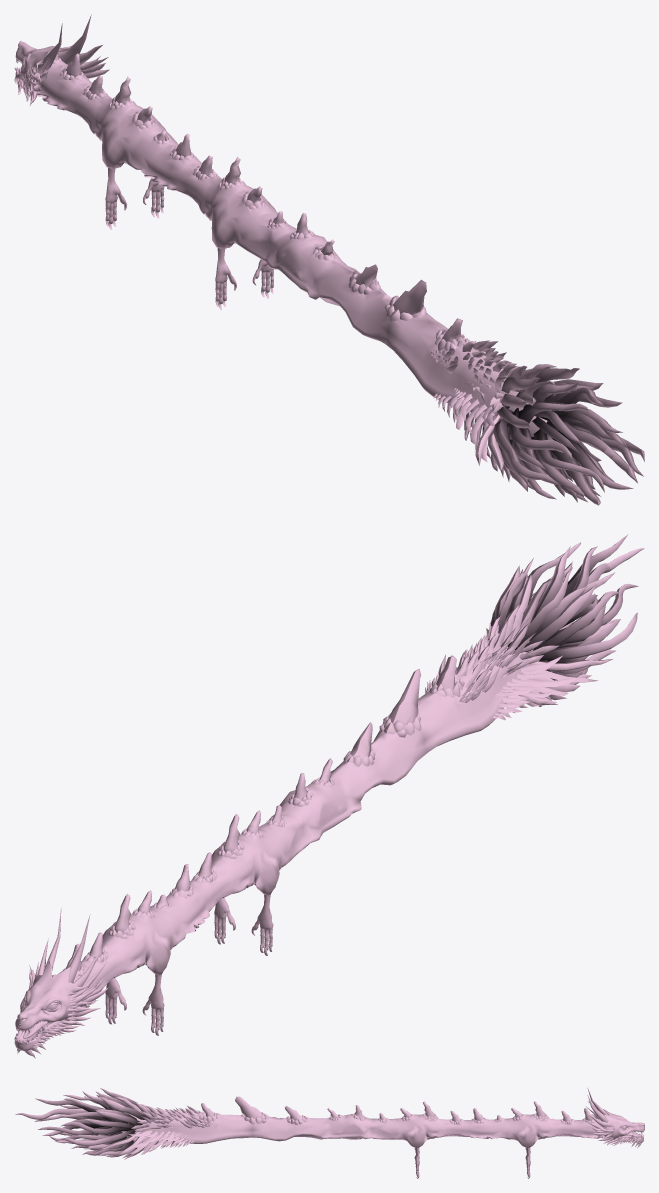
The model's file is dragonwaltersstudio.glb.
The picture shows the model from 3 angles, top to bottom: view 1: azimuth 30°, elevation 25°; view 2: azimuth 150°, elevation 25°; view 3: azimuth 270°, elevation 25°; orthographic projection. The views are drawn at different scales.
Visible parts, largest first — view 1: eyes; view 2: eyes; view 3: eyes.
Boxes of the visible parts, x1=… form: eyes: x1=14, y1=14, x2=644, y2=505; eyes: x1=14, y1=534, x2=644, y2=1058; eyes: x1=15, y1=1088, x2=644, y2=1178.
Bounding box in the file's own units: 6.24 × 7.73 × 53.41.
